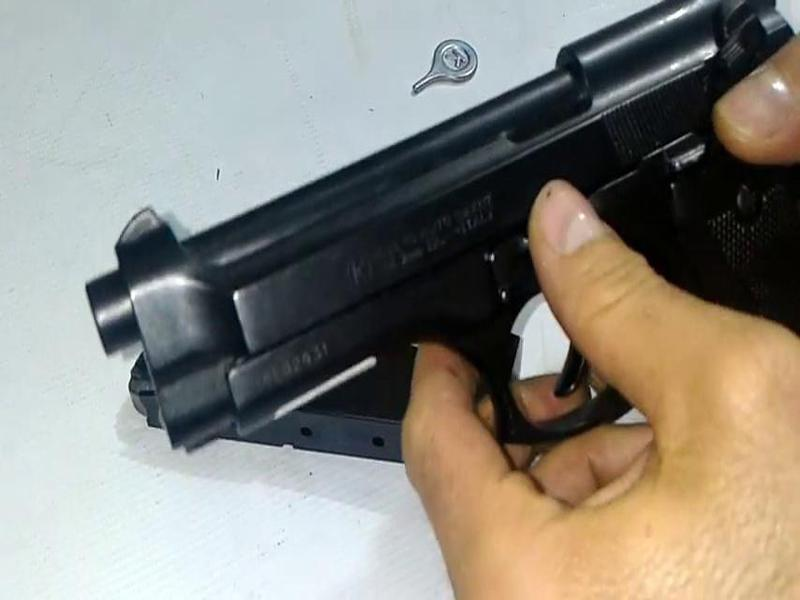Pistola: (83, 7, 800, 494)
